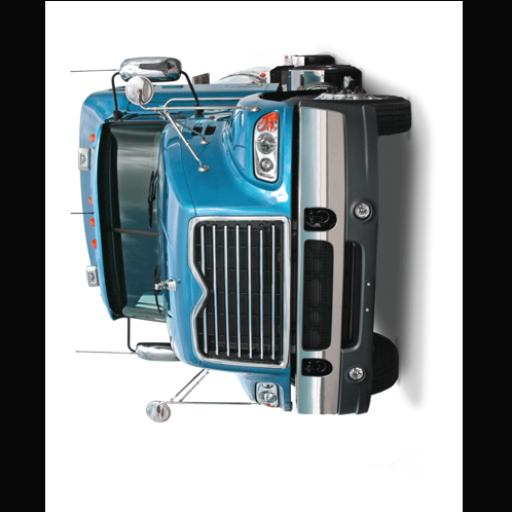truck: (68, 56, 412, 424)
